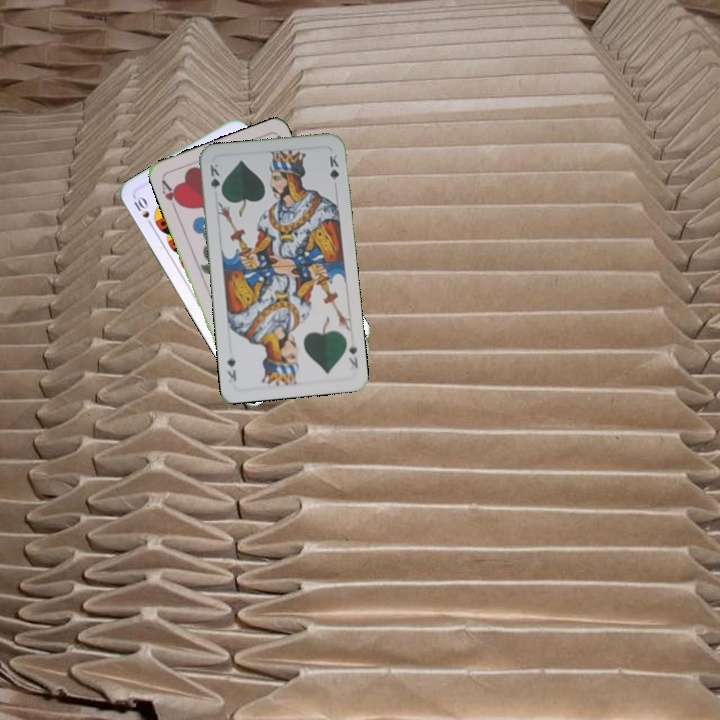GK: (206, 160, 225, 198), (345, 339, 361, 370)
HA: (157, 175, 184, 214)
S10: (128, 192, 156, 230)
